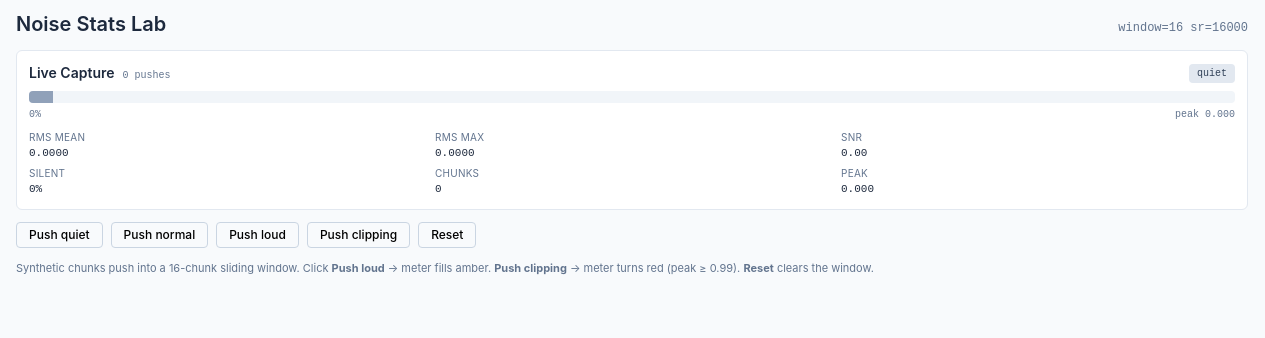
Test: NoiseStatsLabPage › reset clears the window back to quiet
Click the button with test id "ns-lab-push-loud" at (258, 235), box [216,222,299,248]
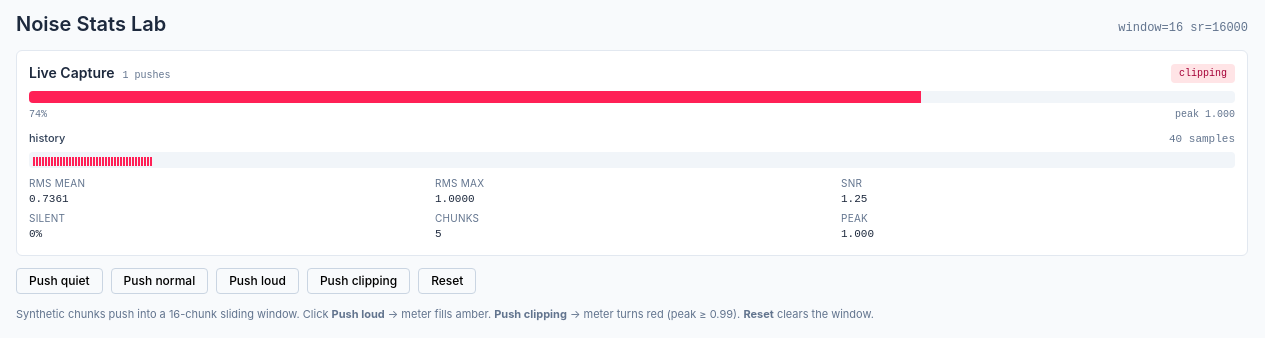
Click the button with test id "ns-lab-push-clipping" at (359, 280), box [307,268,410,294]
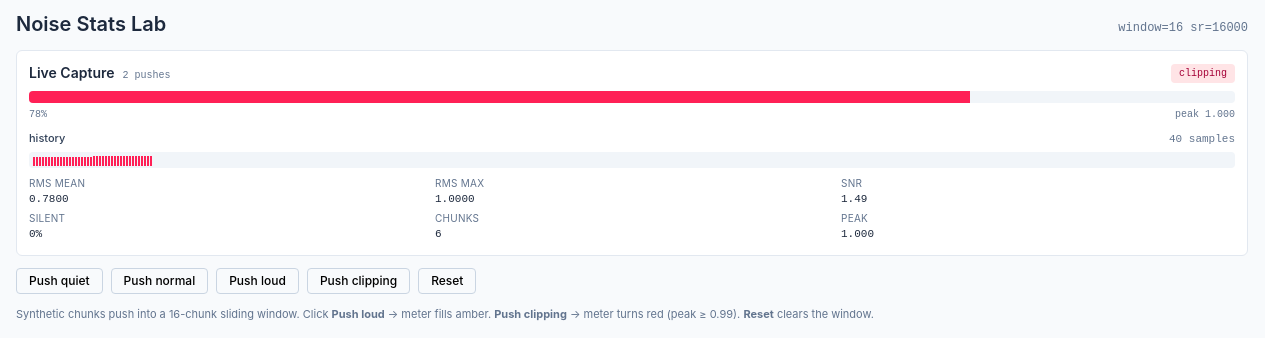
Click the button with test id "ns-lab-reset" at (447, 280), box [418,268,476,294]
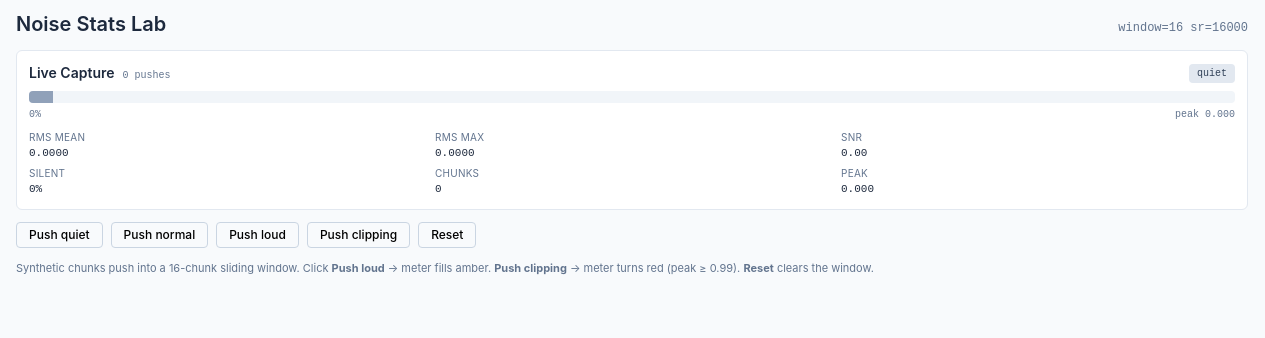
Now the text "quiet" is shown, box [1189,64,1235,82]
